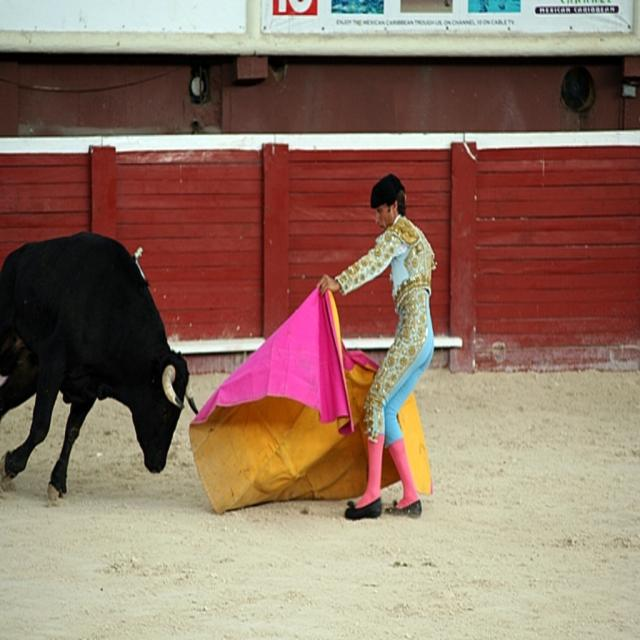Deer: (0, 230, 198, 500)
